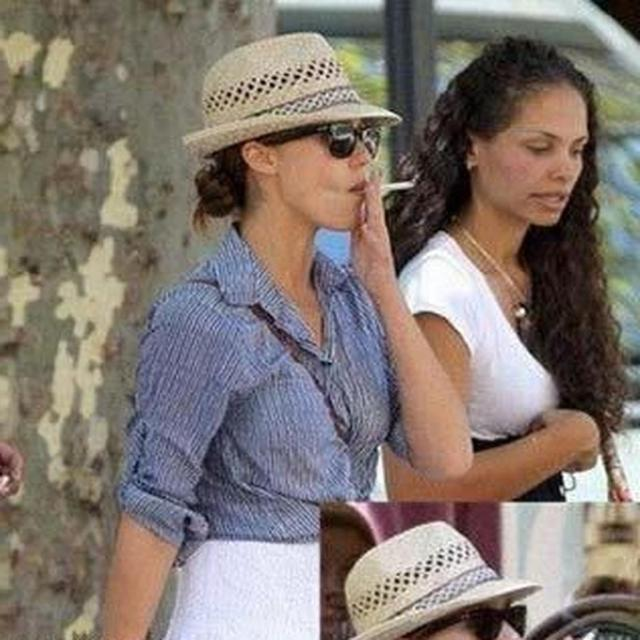smoking: (185, 32, 422, 287)
